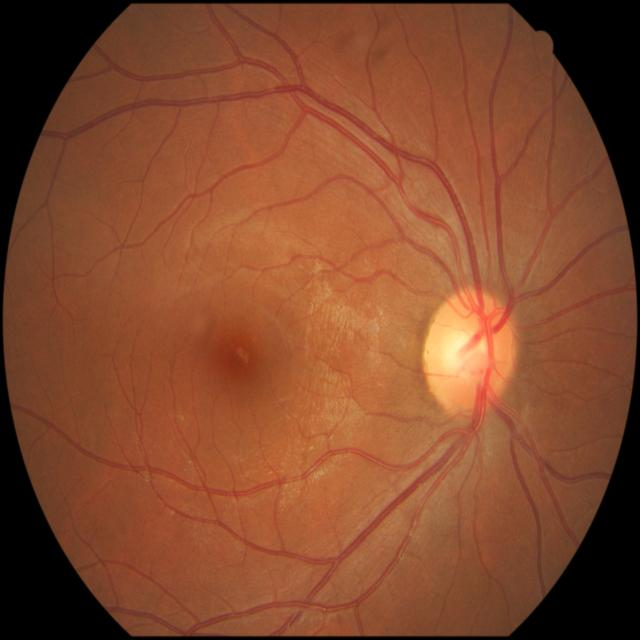OC: (442, 326, 491, 378)
OD: (424, 289, 518, 413)
